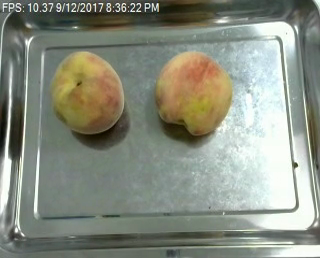Peach: (154, 50, 233, 136), (49, 48, 125, 135)
